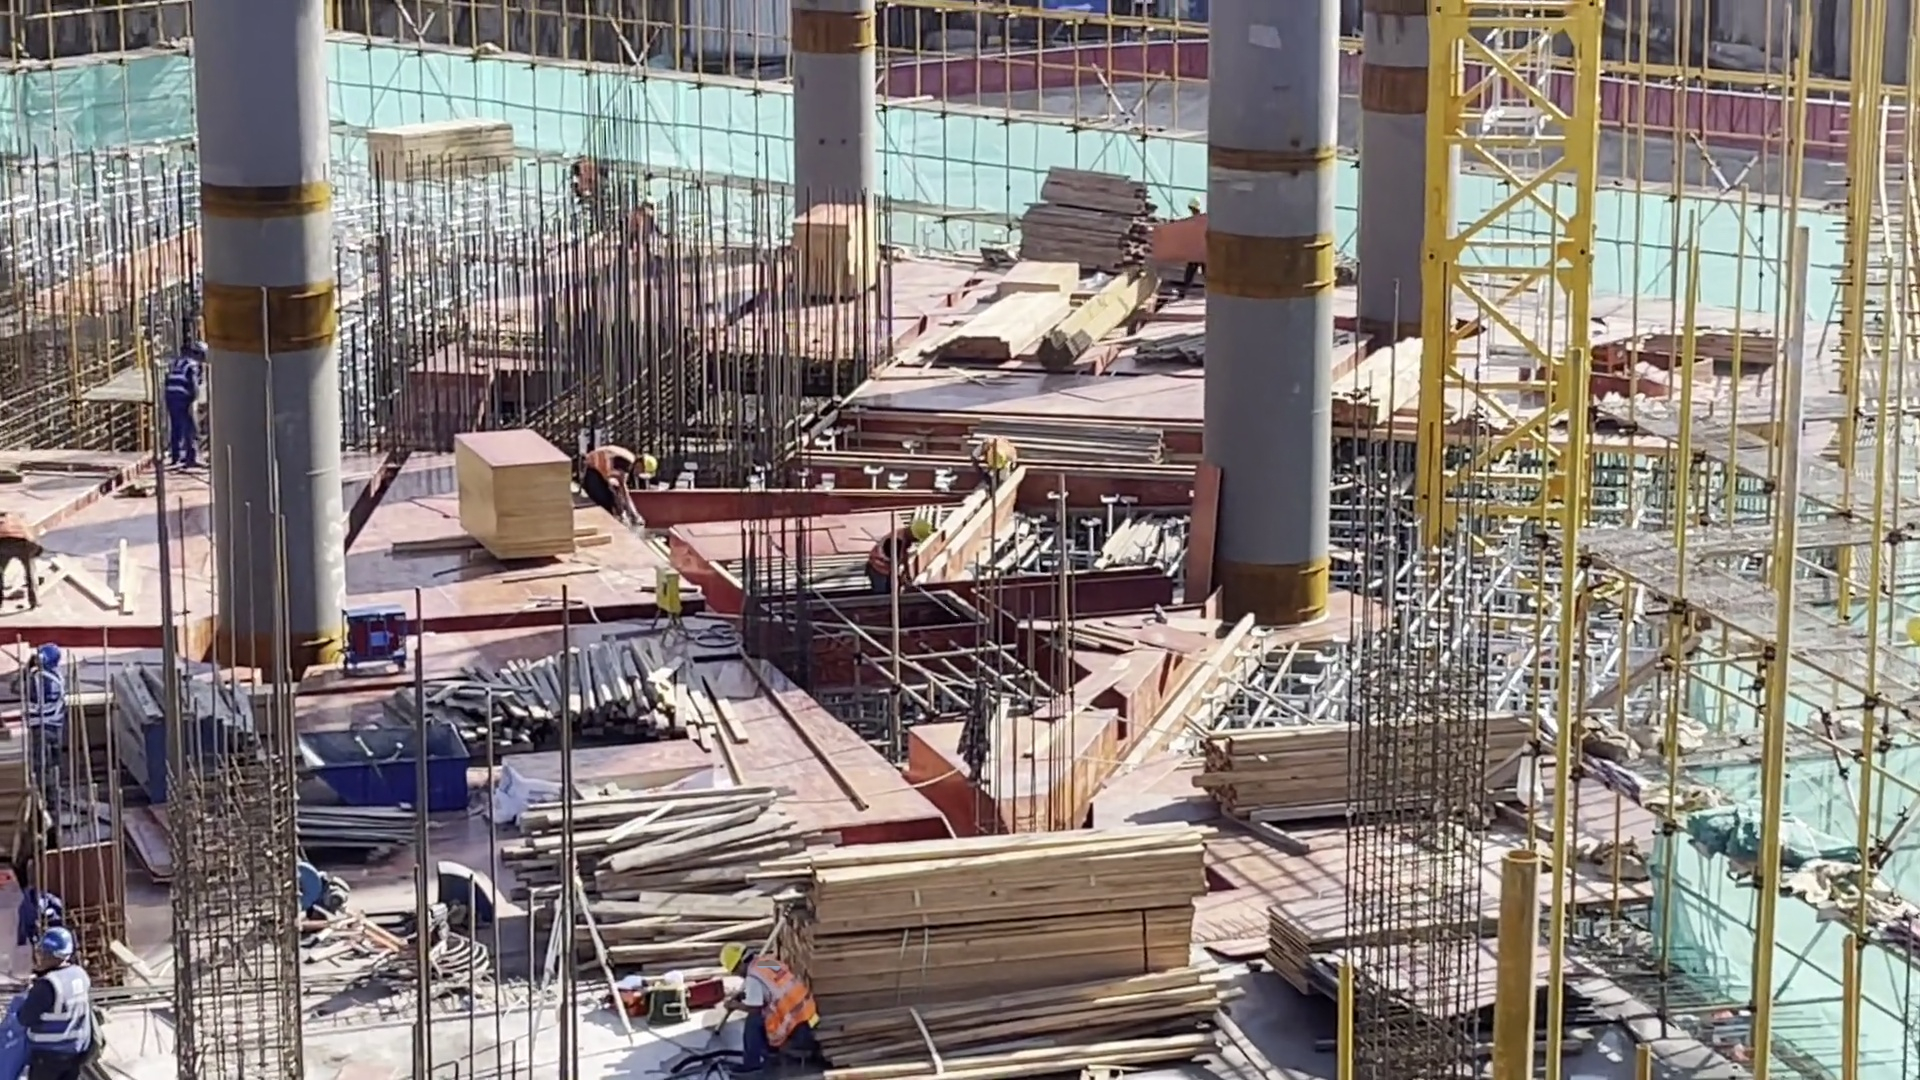board: (455, 429, 573, 558), (1652, 321, 1777, 364)
ebox: (647, 561, 696, 645)
helmet: (40, 925, 73, 962), (720, 943, 747, 970), (36, 643, 62, 670), (911, 520, 932, 542), (987, 450, 1006, 469), (643, 452, 657, 475), (191, 344, 206, 356)
hopper: (293, 718, 473, 816)
person: (1, 925, 93, 1080), (717, 941, 820, 1071), (11, 643, 63, 836), (583, 445, 658, 527), (166, 344, 206, 469), (867, 518, 933, 590), (971, 436, 1015, 482)
vest: (749, 959, 817, 1046), (27, 964, 92, 1051), (27, 671, 63, 728), (583, 445, 630, 484), (166, 358, 196, 403), (868, 530, 893, 578)
wood: (783, 823, 1211, 1046), (1206, 725, 1346, 827), (1023, 164, 1150, 270)
